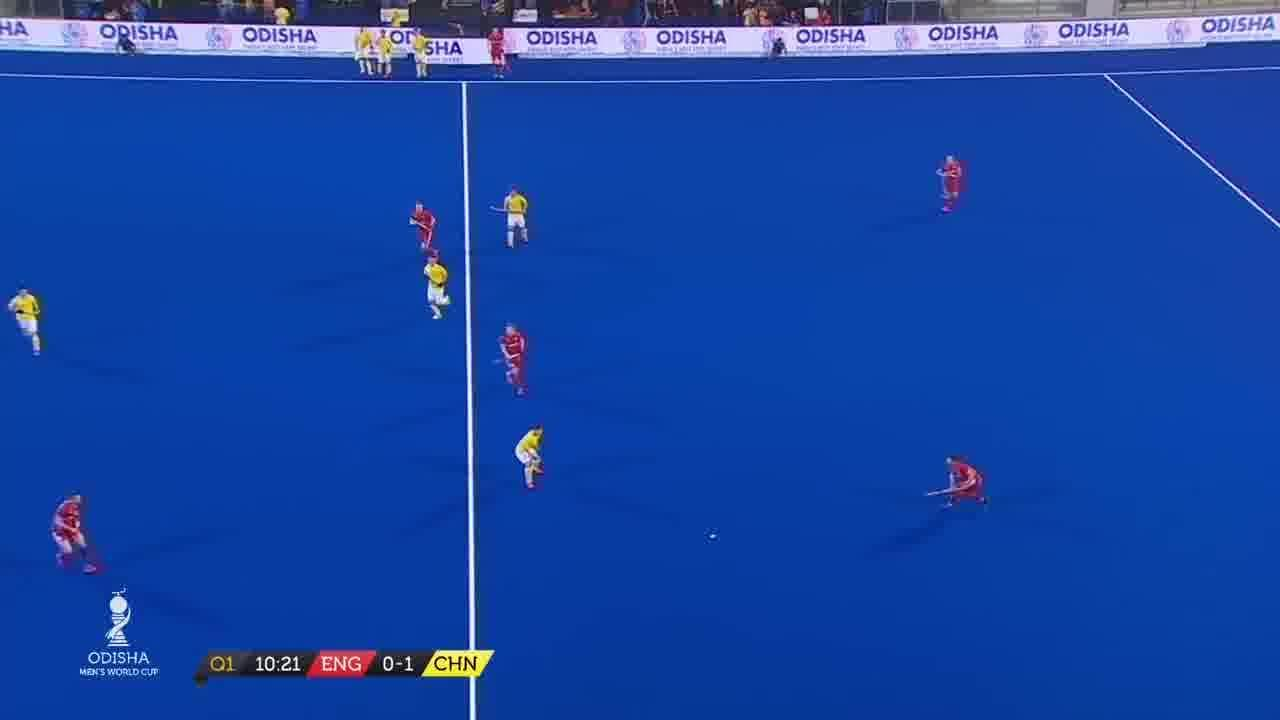ball: (702, 525, 726, 548)
